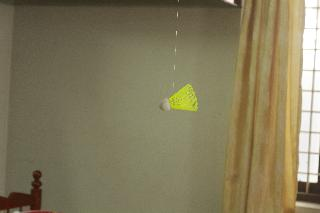shuttlecock: (158, 83, 198, 110)
